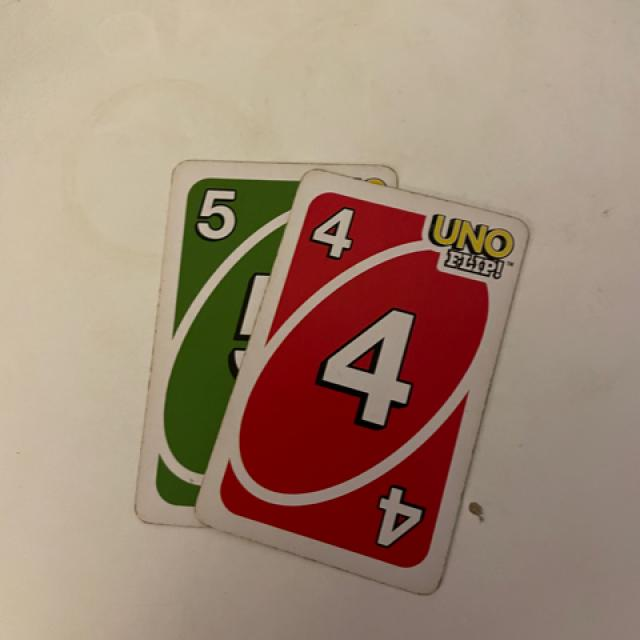lgreen-5: (183, 171, 256, 251)
lred-4: (305, 194, 371, 279)
